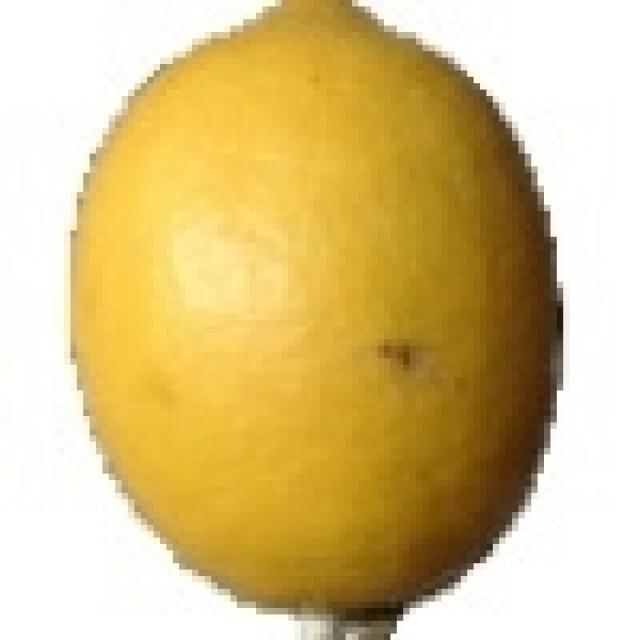lemon: (72, 0, 554, 620)
